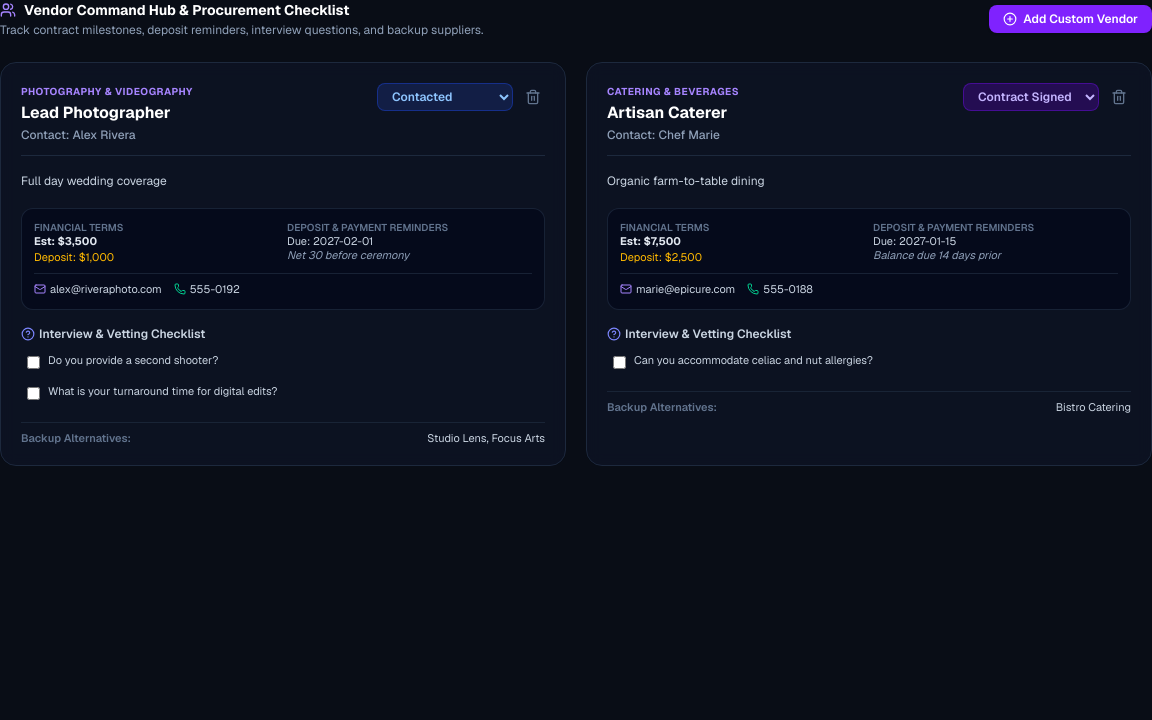
Test case: VendorHubSection Component › closes modal on Escape key press
The width and height of the screenshot is (1152, 720).
Click the button "Add Custom Vendor" at (1071, 19), box [989, 5, 1151, 33]
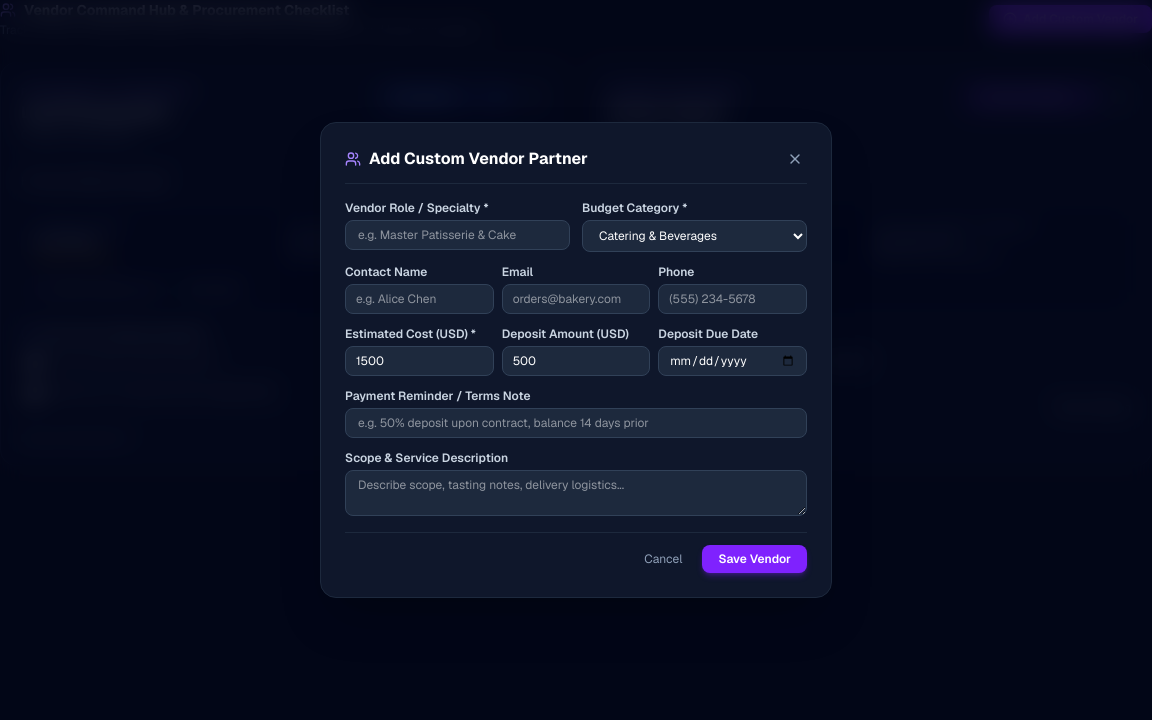
Result: the dialog is shown
Press Escape
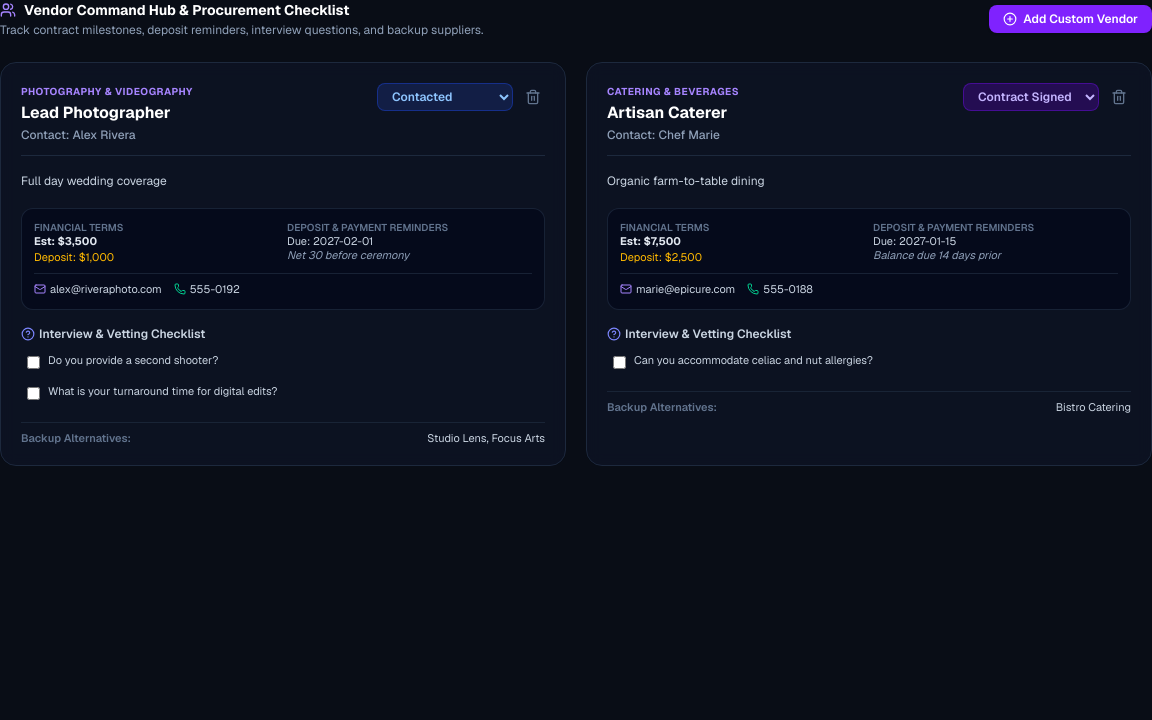
Result: the dialog is gone
